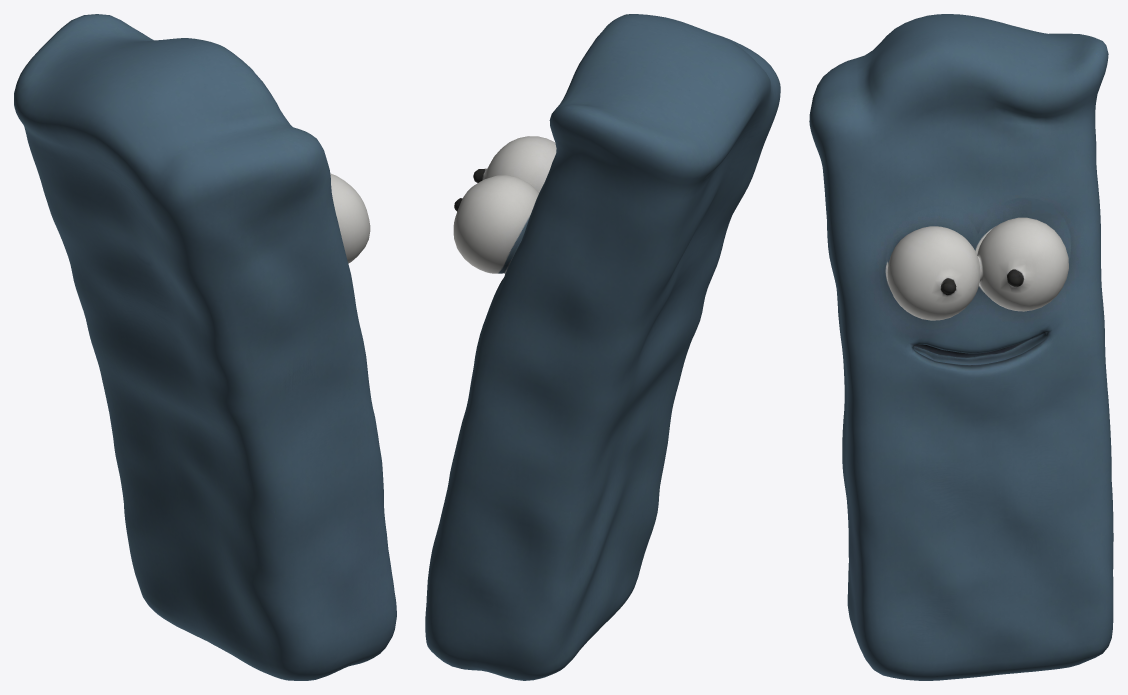
Rendered from ken.glb.
3 views of the same model, side by side, from view 1: azimuth 30°, elevation 25°; view 2: azimuth 150°, elevation 25°; view 3: azimuth 270°, elevation 25° (orthographic). The views are drawn at different scales.
Visible parts, largest first — view 1: tripo_node_9cbb818b; view 2: tripo_node_9cbb818b; view 3: tripo_node_9cbb818b.
Boxes of the visible parts, x1,y1,x2,y2 form: tripo_node_9cbb818b: (14,14,396,680); tripo_node_9cbb818b: (425,14,780,680); tripo_node_9cbb818b: (809,14,1113,680).
Size of the model in its own units: 0.4844 by 0.9998 by 0.4731.
1 material, 1 textured.
